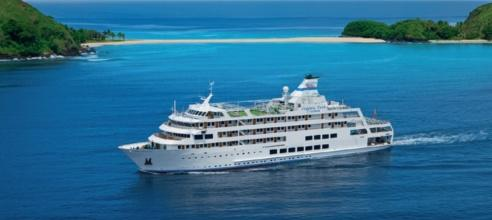youlun: (112, 68, 394, 178)
